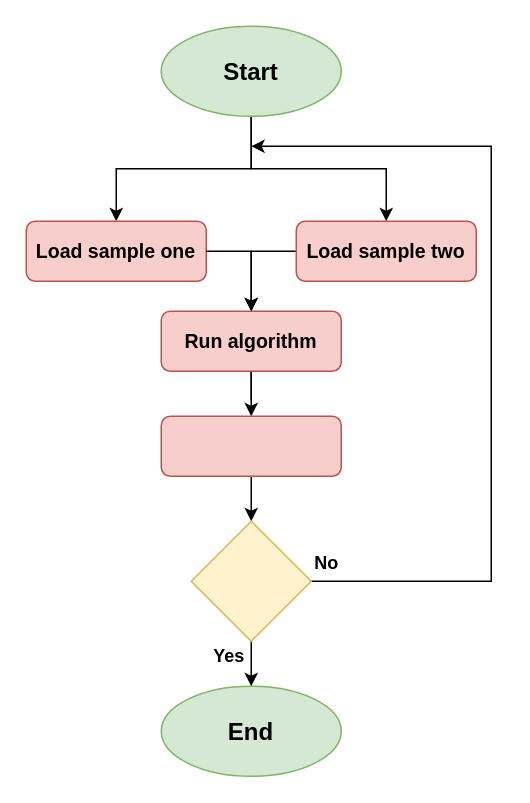
Some shapes in this 530 by 803 pixel diagram are drawn without their labels. The shapes that lost their labels are listed below. From the top down, each one's centre as x and y in pixels, then its label:
point 250,445: Get score
point 250,580: Finish all samples?
